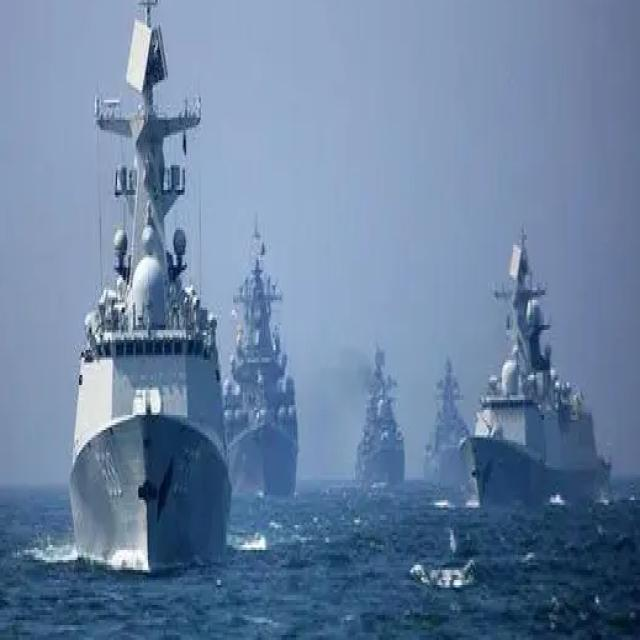navalvessels: (65, 1, 233, 567), (473, 230, 609, 511), (219, 203, 301, 498), (358, 336, 407, 489), (424, 351, 472, 499)
